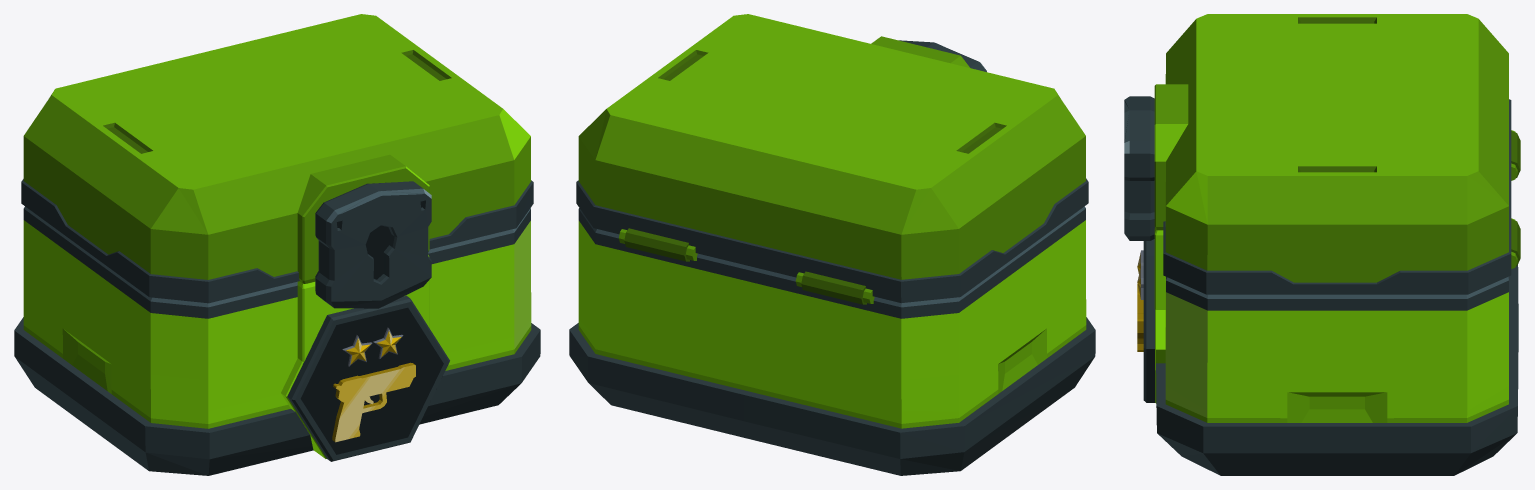
The model's file is box_weaponGrade02.fbx.
The picture shows the model from 3 angles, left to right: view 1: azimuth 30°, elevation 25°; view 2: azimuth 150°, elevation 25°; view 3: azimuth 270°, elevation 25°; orthographic projection. The views are drawn at different scales.
Visible parts, largest first — view 1: Object003, box_weaponGrade02, Object004; view 2: Object003, box_weaponGrade02; view 3: Object003, box_weaponGrade02, Object004.
Boxes of the visible parts, x1,y1,x2,y2 form: Object003: [21, 14, 533, 303]; box_weaponGrade02: [14, 206, 540, 475]; Object004: [315, 181, 431, 308]; Object003: [576, 14, 1088, 304]; box_weaponGrade02: [569, 206, 1095, 475]; Object003: [1154, 14, 1520, 294]; box_weaponGrade02: [1137, 228, 1518, 475]; Object004: [1124, 96, 1154, 240].
Bounding box in the file's own units: 187 × 128 × 158.
